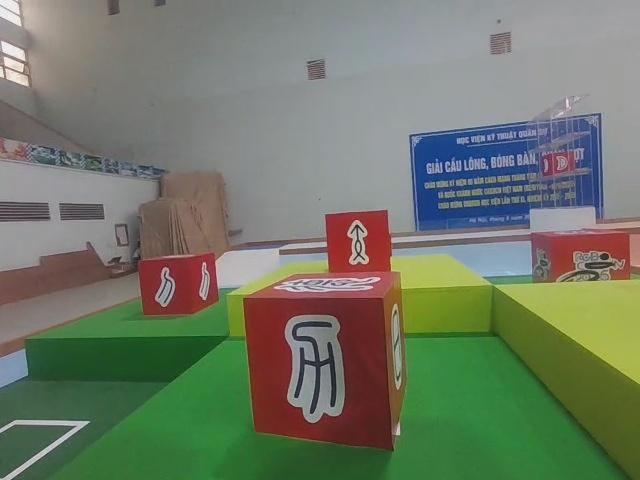R1: (527, 225, 633, 303)
R2 Fake: (239, 270, 412, 455)
R2 Real: (134, 248, 222, 319), (322, 205, 394, 280)
